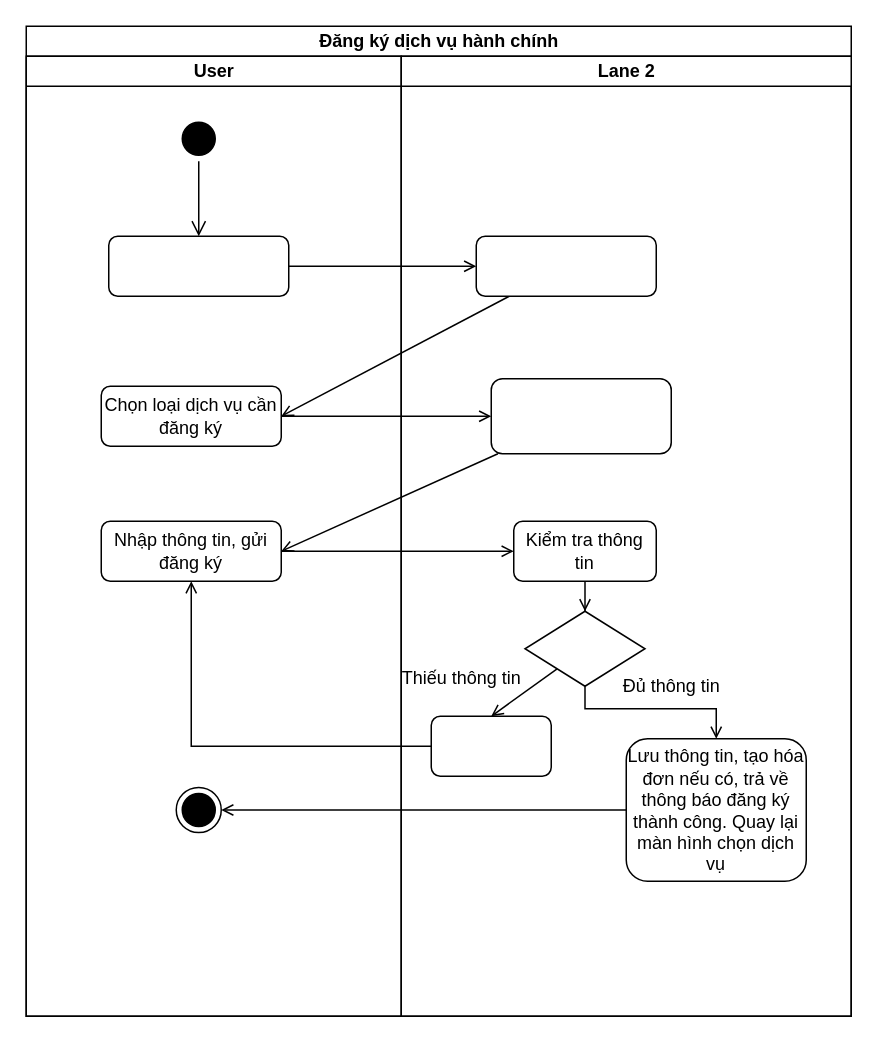
The diagram is 878 pixels wide and 1043 high, and some of its shapes have lost their labels. Each missing label, with the centre of its shape:
Báo lỗi: pixel 490 745
Chọn tab đăng ký mới: pixel 198 265
Trả về danh sách dịch vụ hành chính: pixel 565 265
Trả về thông tin dịch vụ, chi phí nếu có, form đăng ký: pixel 580 415
